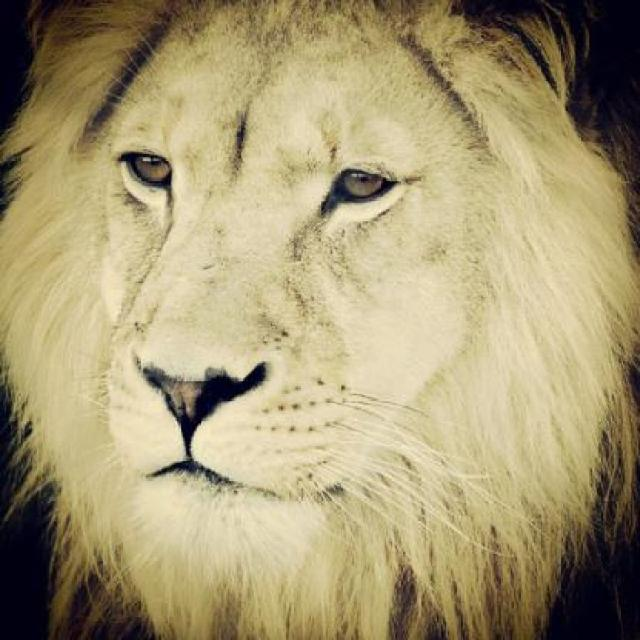Lion: (6, 19, 639, 638)
